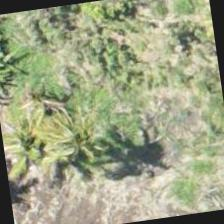Kelapa_Sawit: (41, 84, 143, 186), (0, 87, 87, 188)
